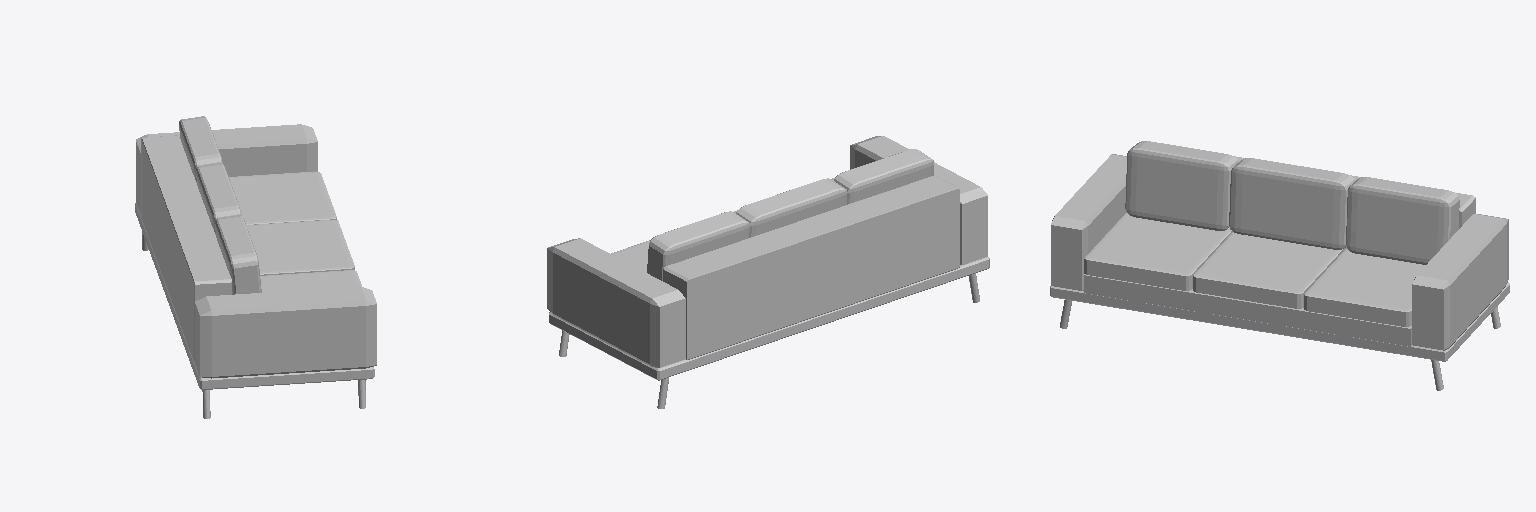
File: divano_mod.obj
3 views of the same model, side by side, from view 1: azimuth 30°, elevation 25°; view 2: azimuth 150°, elevation 25°; view 3: azimuth 270°, elevation 25° (orthographic).
Parts seen in each view (by area): view 1: Cube.003_Cube.005, Cube.004, Cube.002, Cube.005_Cube.011, Cube.006_Cube.010, Cube.001, Cube.007_Cube.012, Cube.009_Cube.014, Cube.002_Cube.009, Cube.008_Cube.013; view 2: Cube.004, Cube.002, Cube.001, Cube.003_Cube.005, Cube.008_Cube.013, Cube.009_Cube.014, Cube.007_Cube.012, Cube.006_Cube.010; view 3: Cube.001, Cube.009_Cube.014, Cube.002, Cube.007_Cube.012, Cube.008_Cube.013, Cube.005_Cube.011, Cube.002_Cube.009, Cube.006_Cube.010, Cube.003_Cube.005.
Boxes of the visible parts, x1=… form: Cube.003_Cube.005: x1=195, y1=286, x2=376, y2=378; Cube.004: x1=141, y1=135, x2=231, y2=362; Cube.002: x1=136, y1=124, x2=317, y2=213; Cube.005_Cube.011: x1=246, y1=220, x2=354, y2=275; Cube.006_Cube.010: x1=229, y1=171, x2=336, y2=224; Cube.001: x1=135, y1=203, x2=374, y2=389; Cube.007_Cube.012: x1=215, y1=215, x2=261, y2=294; Cube.009_Cube.014: x1=196, y1=163, x2=241, y2=233; Cube.002_Cube.009: x1=260, y1=270, x2=361, y2=292; Cube.008_Cube.013: x1=179, y1=116, x2=222, y2=181; Cube.004: x1=663, y1=175, x2=959, y2=359; Cube.002: x1=547, y1=238, x2=685, y2=367; Cube.001: x1=549, y1=257, x2=989, y2=380; Cube.003_Cube.005: x1=850, y1=136, x2=987, y2=264; Cube.008_Cube.013: x1=647, y1=211, x2=749, y2=280; Cube.009_Cube.014: x1=736, y1=178, x2=847, y2=237; Cube.007_Cube.012: x1=834, y1=149, x2=933, y2=204; Cube.006_Cube.010: x1=611, y1=240, x2=649, y2=272; Cube.001: x1=1050, y1=274, x2=1509, y2=361; Cube.009_Cube.014: x1=1229, y1=158, x2=1355, y2=249; Cube.002: x1=1412, y1=214, x2=1508, y2=350; Cube.007_Cube.012: x1=1125, y1=141, x2=1238, y2=230; Cube.008_Cube.013: x1=1346, y1=177, x2=1459, y2=264; Cube.005_Cube.011: x1=1193, y1=232, x2=1346, y2=308; Cube.002_Cube.009: x1=1084, y1=212, x2=1232, y2=290; Cube.006_Cube.010: x1=1304, y1=248, x2=1425, y2=326; Cube.003_Cube.005: x1=1051, y1=154, x2=1126, y2=290.
Bounding box in the file's own units: 1.5 × 0.7519 × 2.16.